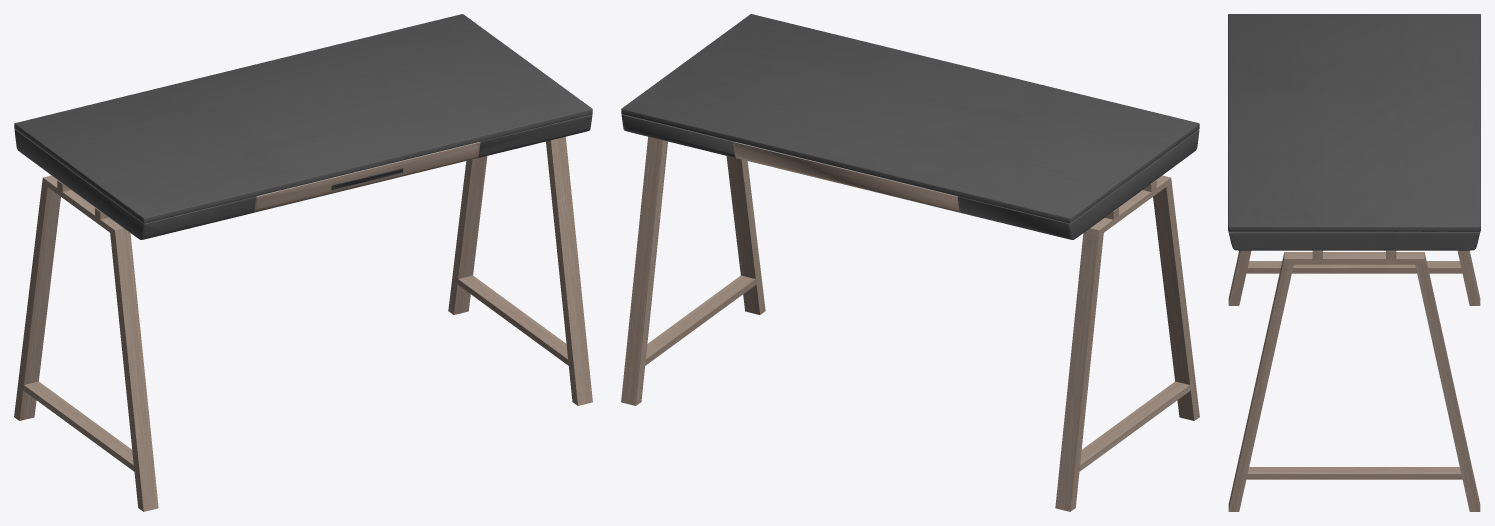
Rendered from studiodesk.glb.
3 views of the same model, side by side, from view 1: azimuth 30°, elevation 25°; view 2: azimuth 150°, elevation 25°; view 3: azimuth 270°, elevation 25° (orthographic). The views are drawn at different scales.
Parts seen in each view (by area): view 1: StudioDesk; view 2: StudioDesk; view 3: StudioDesk.
Boxes of the visible parts, x1,y1,x2,y2 form: StudioDesk: [14, 14, 592, 511]; StudioDesk: [621, 14, 1199, 511]; StudioDesk: [1228, 14, 1480, 511].
Bounding box in the file's own units: 1.2 × 0.7499 × 0.6018.
1 material, 1 textured.
